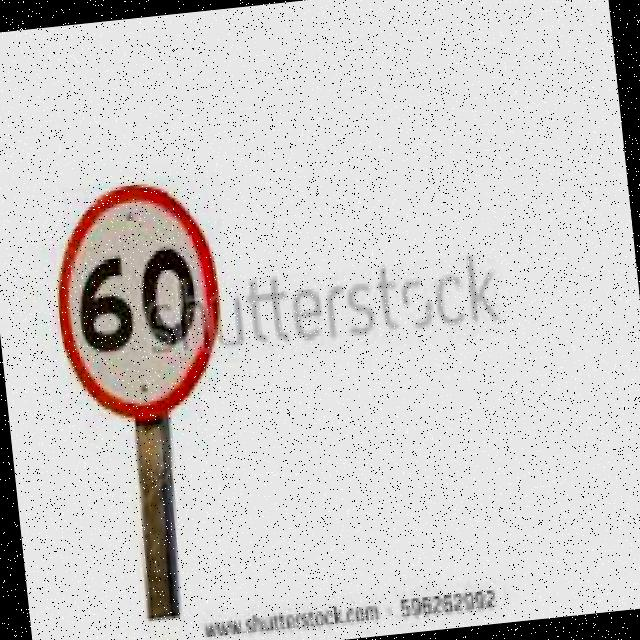Ograniczenie predkosci do 60: (45, 173, 230, 423)
